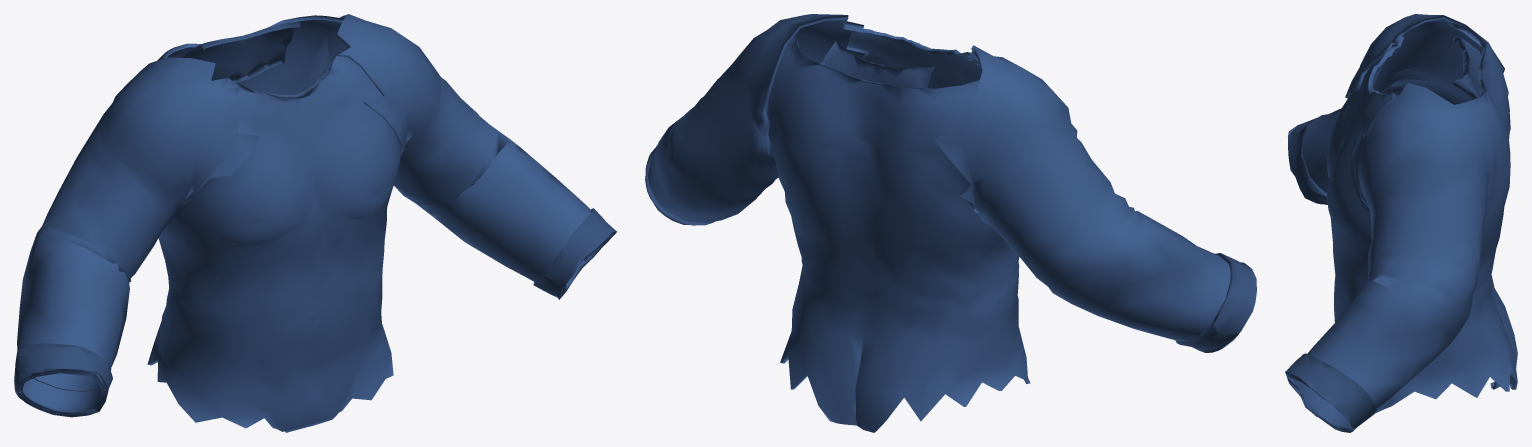
The model's file is jacket-denim-v1.glb.
The picture shows the model from 3 angles, left to right: view 1: azimuth 30°, elevation 25°; view 2: azimuth 150°, elevation 25°; view 3: azimuth 270°, elevation 25°; orthographic projection. The views are drawn at different scales.
Visible parts, largest first — view 1: jacket_body, jacket_sleeve_R, jacket_sleeve_L, jacket_collar, jacket_cuff_R, jacket_cuff_L; view 2: jacket_body, jacket_sleeve_R, jacket_sleeve_L, jacket_cuff_R, jacket_collar; view 3: jacket_sleeve_L, jacket_body, jacket_sleeve_R, jacket_cuff_L, jacket_cuff_R, jacket_collar.
Boxes of the visible parts, <box> form: jacket_body: <box>147,15,400,432</box>; jacket_sleeve_R: <box>17,57,260,415</box>; jacket_sleeve_L: <box>323,14,614,293</box>; jacket_collar: <box>183,21,300,82</box>; jacket_cuff_R: <box>14,343,112,417</box>; jacket_cuff_L: <box>533,208,616,299</box>; jacket_body: <box>765,24,1030,432</box>; jacket_sleeve_R: <box>934,45,1230,341</box>; jacket_sleeve_L: <box>648,14,865,222</box>; jacket_cuff_R: <box>1175,253,1256,352</box>; jacket_collar: <box>820,41,935,88</box>; jacket_sleeve_L: <box>1286,83,1497,430</box>; jacket_body: <box>1327,22,1517,413</box>; jacket_sleeve_R: <box>1302,14,1504,192</box>; jacket_cuff_L: <box>1285,353,1376,432</box>; jacket_cuff_R: <box>1288,114,1327,204</box>; jacket_collar: <box>1452,36,1482,99</box>.
Size of the model in its own units: 1.1 by 0.6335 by 0.4004.
